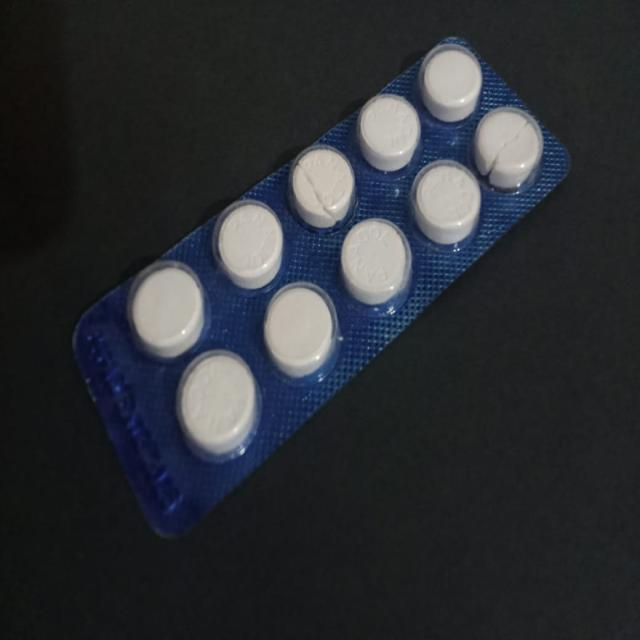defect: (287, 144, 357, 228), (474, 106, 544, 183)
